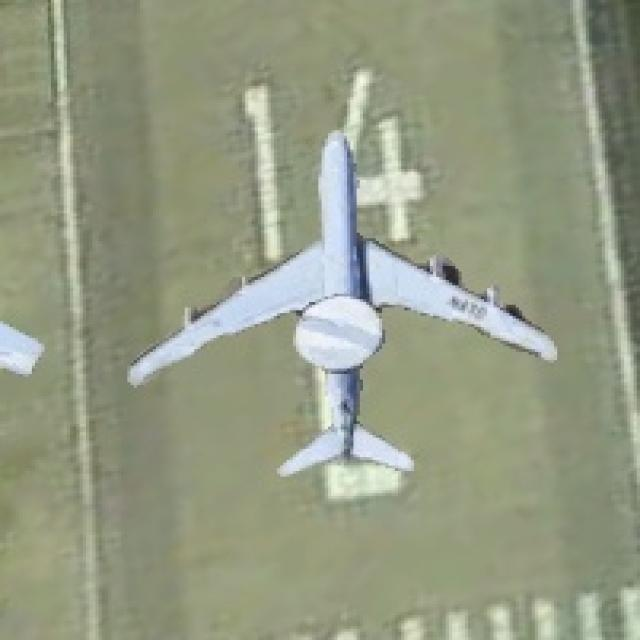E-3_TopDown: (121, 125, 557, 479)
